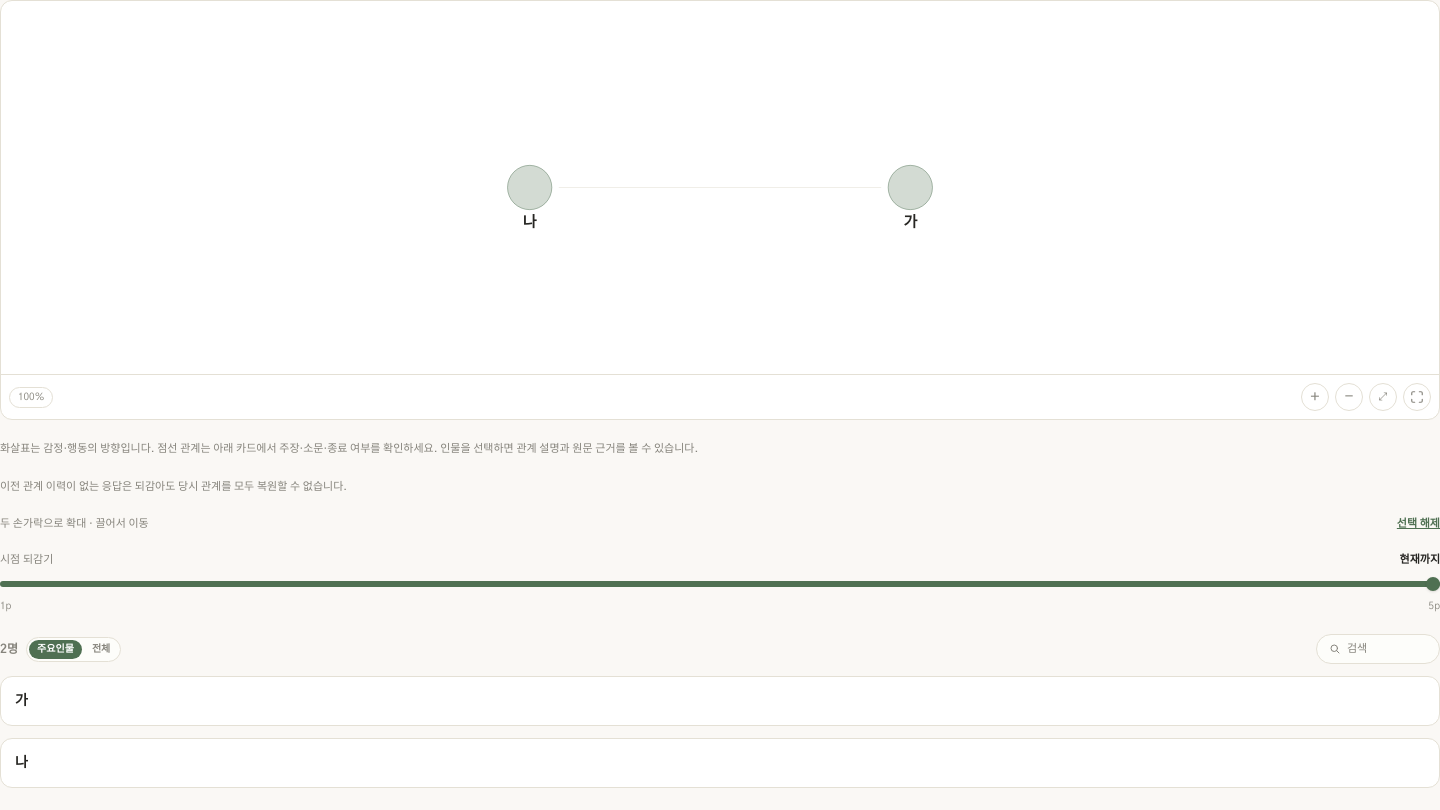
FR-CHR-001: 과거 데이터는 임의 화살표나 검증 표시 없이 방향 미검증으로 표시한다
Click the button "가".
click(21, 701)  # box [0,676,1439,726]
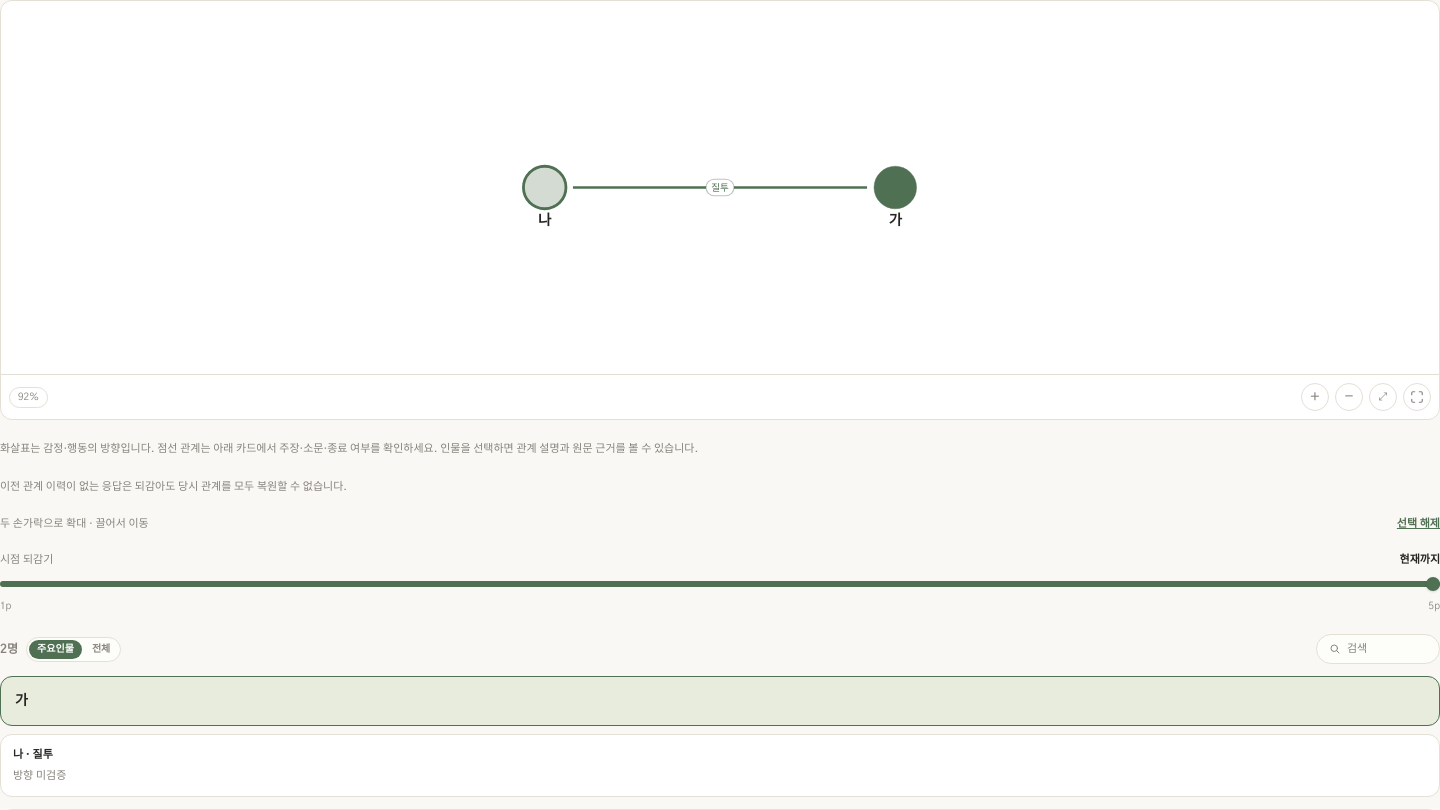
Check: the text "이전 관계 이력이 없는 응답은 되감아도 당시 관계를 모두 복원할 수 없습니다." is shown, box [0,481,347,492]
Check: the text "방향 미검증" is shown, box [13,770,66,781]
